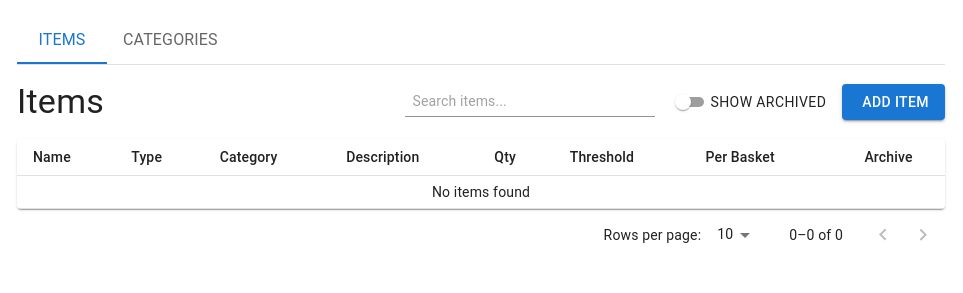
Test: Catalog Component › switches to Categories tab when clicked
Click the tab "Categories".
click(170, 40)  # box [107,16,234,64]
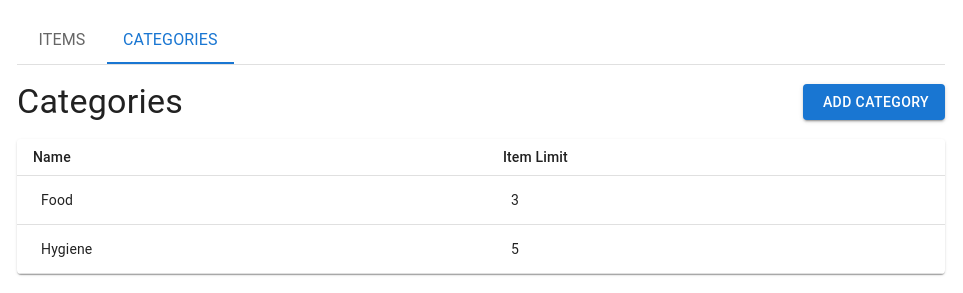
Expected: the button "Add category" is shown, [803,84,945,120]
Expected: the text "Food" is shown, [41,192,73,208]
Expected: the text "Hygiene" is shown, [41,241,92,257]
